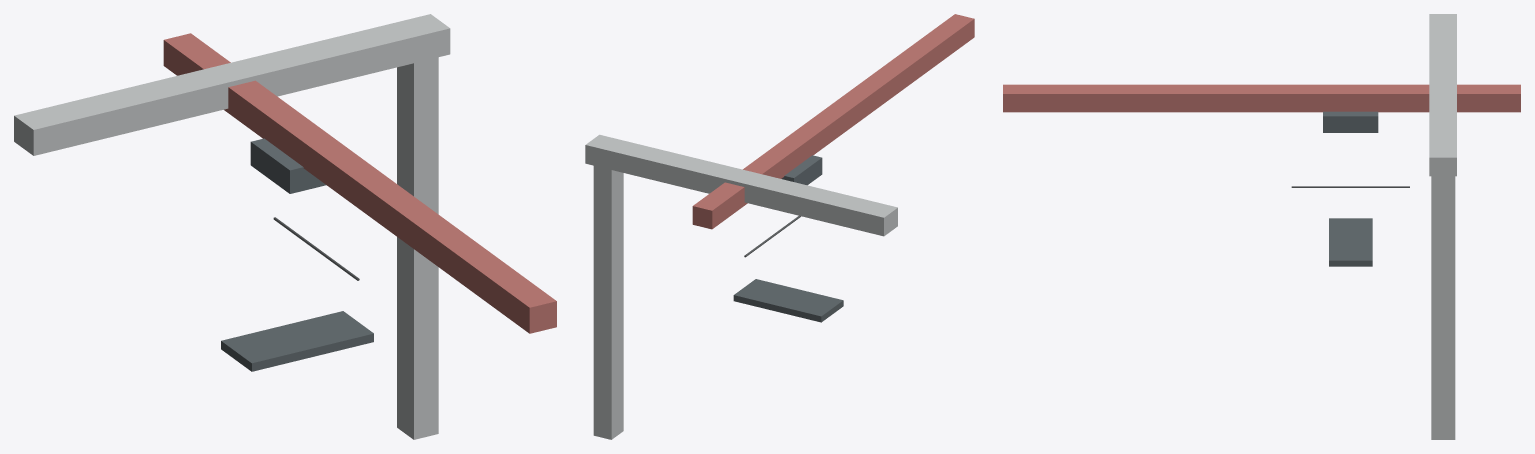
Rendered from portainer-lod1.glb.
3 renders of one model, left to right at view 1: azimuth 30°, elevation 25°; view 2: azimuth 150°, elevation 25°; view 3: azimuth 270°, elevation 25°, orthographic. The views are drawn at different scales.
Parts seen in each view (by area): view 1: girder, boom, leg, spreader, trolley; view 2: girder, boom, leg, spreader, trolley; view 3: boom, leg, girder, spreader, trolley.
Boxes of the visible parts, <box> form: girder: <box>14,14,450,155</box>; boom: <box>163,33,556,333</box>; leg: <box>397,57,438,439</box>; spreader: <box>221,311,373,371</box>; trolley: <box>250,138,326,193</box>; girder: <box>585,134,897,236</box>; boom: <box>692,14,974,229</box>; leg: <box>593,166,623,439</box>; spreader: <box>733,279,843,322</box>; trolley: <box>781,155,822,185</box>; boom: <box>1003,84,1520,112</box>; leg: <box>1431,176,1455,439</box>; girder: <box>1429,14,1456,176</box>; spreader: <box>1329,218,1372,266</box>; trolley: <box>1323,111,1378,132</box>.
Size of the model in its own units: 9.2 by 8.52 by 14.
